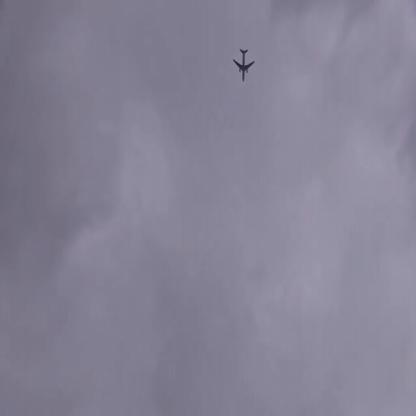plane: (230, 46, 255, 82)
